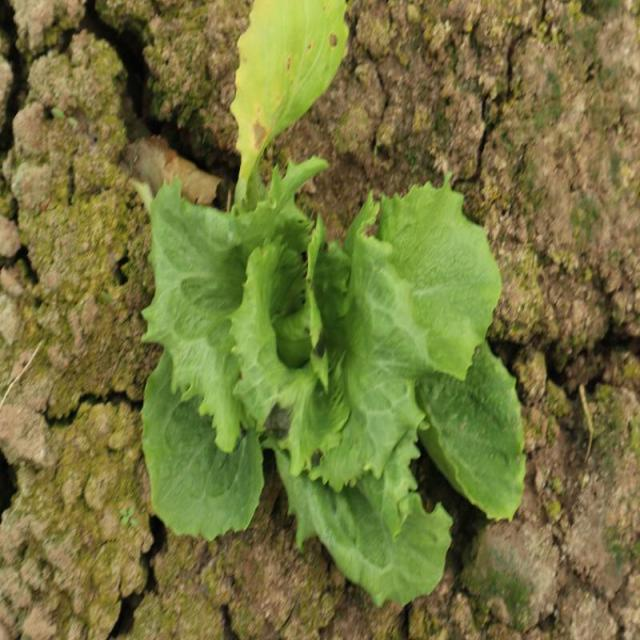crop: (140, 0, 518, 602)
